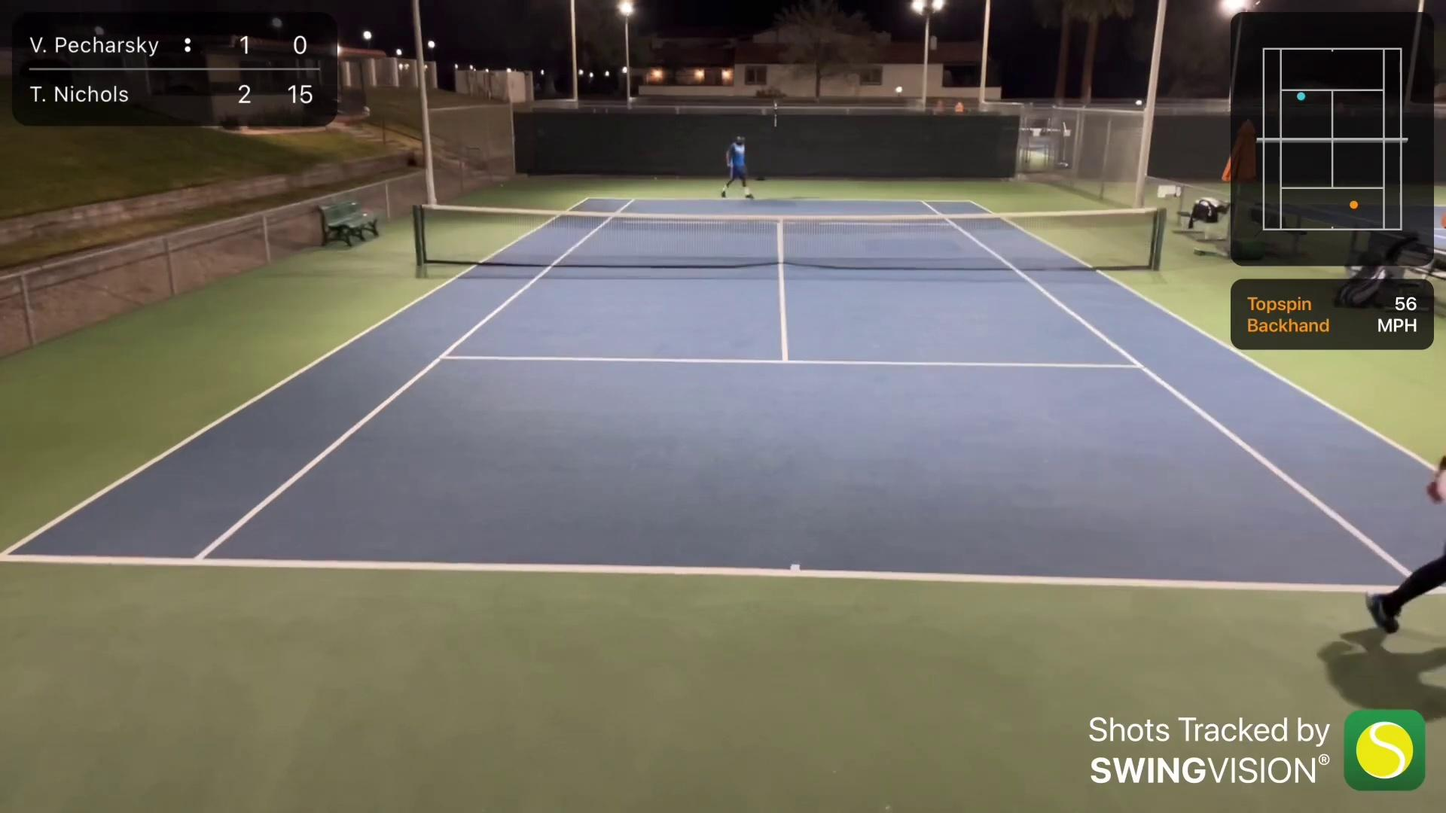ball: (367, 413, 378, 421)
